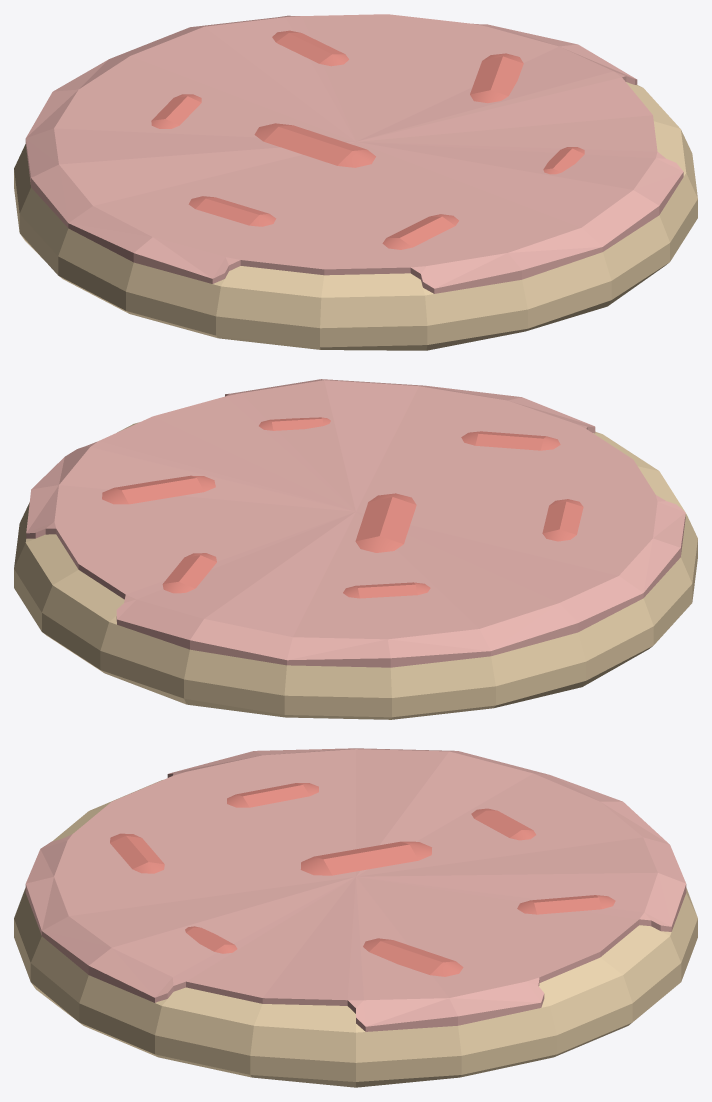
The model's file is cookie_sprinkles.fbx.
3 views of the same model, one above another, from view 1: azimuth 30°, elevation 25°; view 2: azimuth 150°, elevation 25°; view 3: azimuth 270°, elevation 25° (orthographic).
Parts seen in each view (by area): view 1: cookie_sprinkles; view 2: cookie_sprinkles; view 3: cookie_sprinkles.
Boxes of the visible parts, left/top/right/bottom form: cookie_sprinkles: left=14, top=14, right=697, bottom=350; cookie_sprinkles: left=14, top=379, right=697, bottom=719; cookie_sprinkles: left=14, top=748, right=697, bottom=1087.
Size of the model in its own units: 0.02 by 0.00246 by 0.02.
